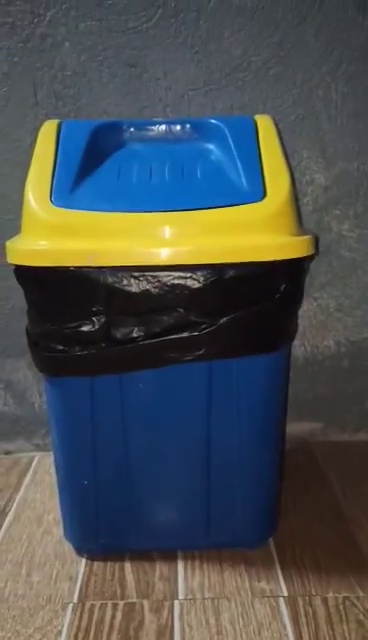garbagebin: (6, 113, 315, 560)
